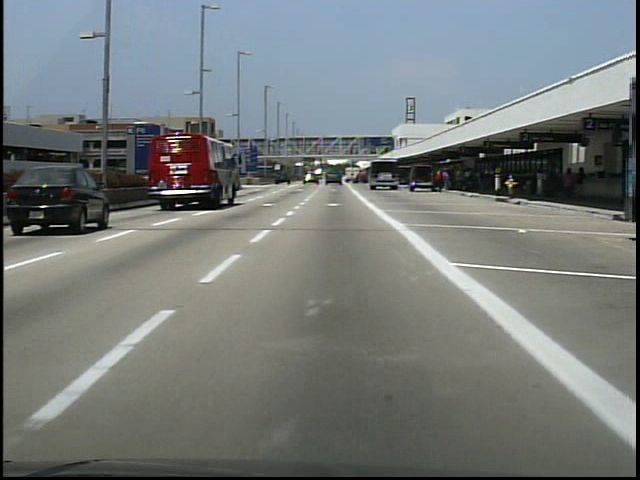person: (437, 172, 447, 198)
